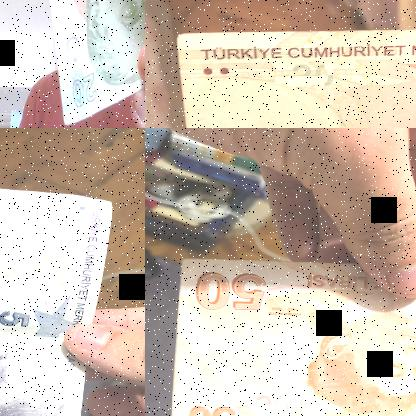5 TL: (41, 0, 144, 127)
